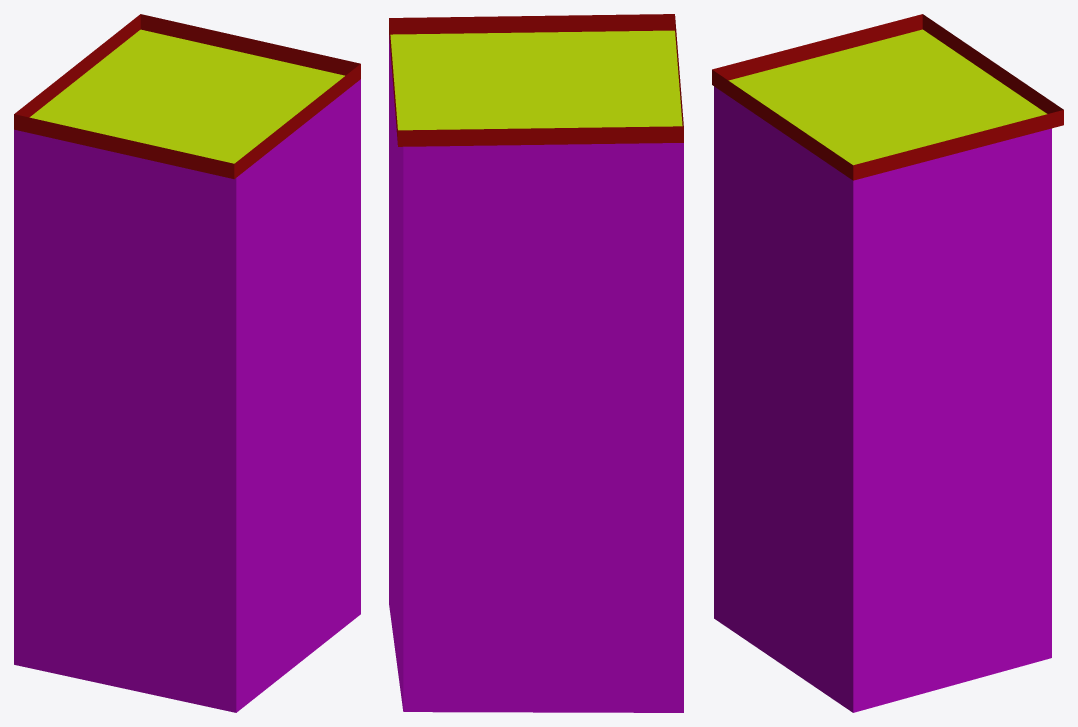
File: vzc_15.glb
The picture shows the model from 3 angles, left to right: view 1: azimuth 30°, elevation 25°; view 2: azimuth 150°, elevation 25°; view 3: azimuth 270°, elevation 25°; orthographic projection. The views are drawn at different scales.
Visible parts, largest first — view 1: vzc_15; view 2: vzc_15; view 3: vzc_15.
Part boxes in pixels (x1=…): vzc_15: x1=14, y1=14, x2=360, y2=712; vzc_15: x1=389, y1=14, x2=683, y2=712; vzc_15: x1=712, y1=14, x2=1063, y2=712.
Bounding box in the file's own units: 7.36 × 12.43 × 7.24.
